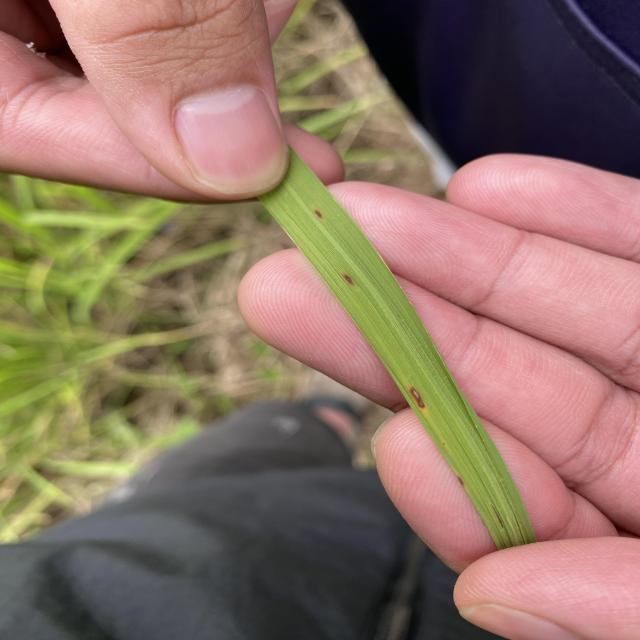Dom nau: (408, 385, 426, 411), (341, 273, 355, 285), (313, 209, 323, 219), (457, 476, 465, 486)
